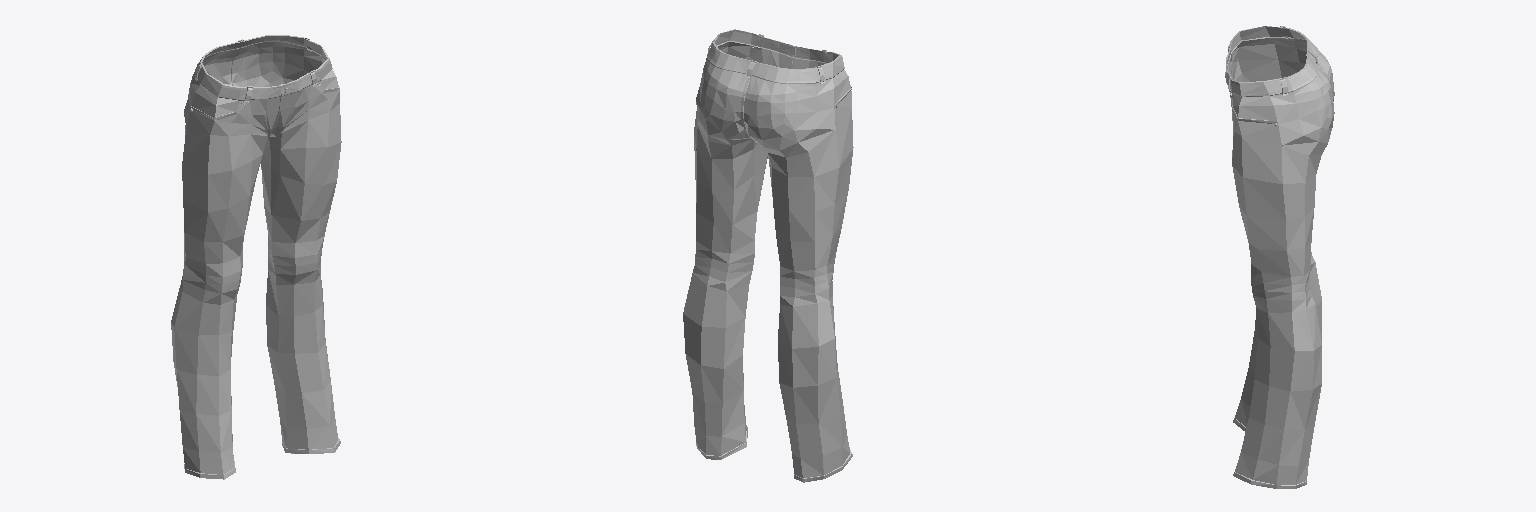
File: cool-jeans.obj
3 views of the same model, side by side, from view 1: azimuth 30°, elevation 25°; view 2: azimuth 150°, elevation 25°; view 3: azimuth 270°, elevation 25° (orthographic).
Parts seen in each view (by area): view 1: MDL Obj1; view 2: MDL Obj1; view 3: MDL Obj1.
Boxes of the visible parts, box(x1,y1,x2,y2) form: MDL Obj1: box(171, 35, 341, 479); MDL Obj1: box(683, 29, 853, 482); MDL Obj1: box(1225, 26, 1334, 488).
Size of the model in its own units: 9.72 by 25.64 by 6.19.